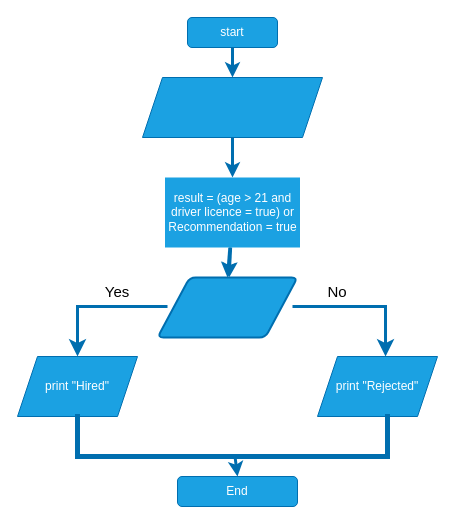
This 455x524 diagram has some shape labels left out. Here are the shapes that lost their labels. From the top down, the centre of each, then its label:
pixel 232 107: Read age Read HasDriverLicence Read Has recommendation
pixel 227 307: Result = true?
